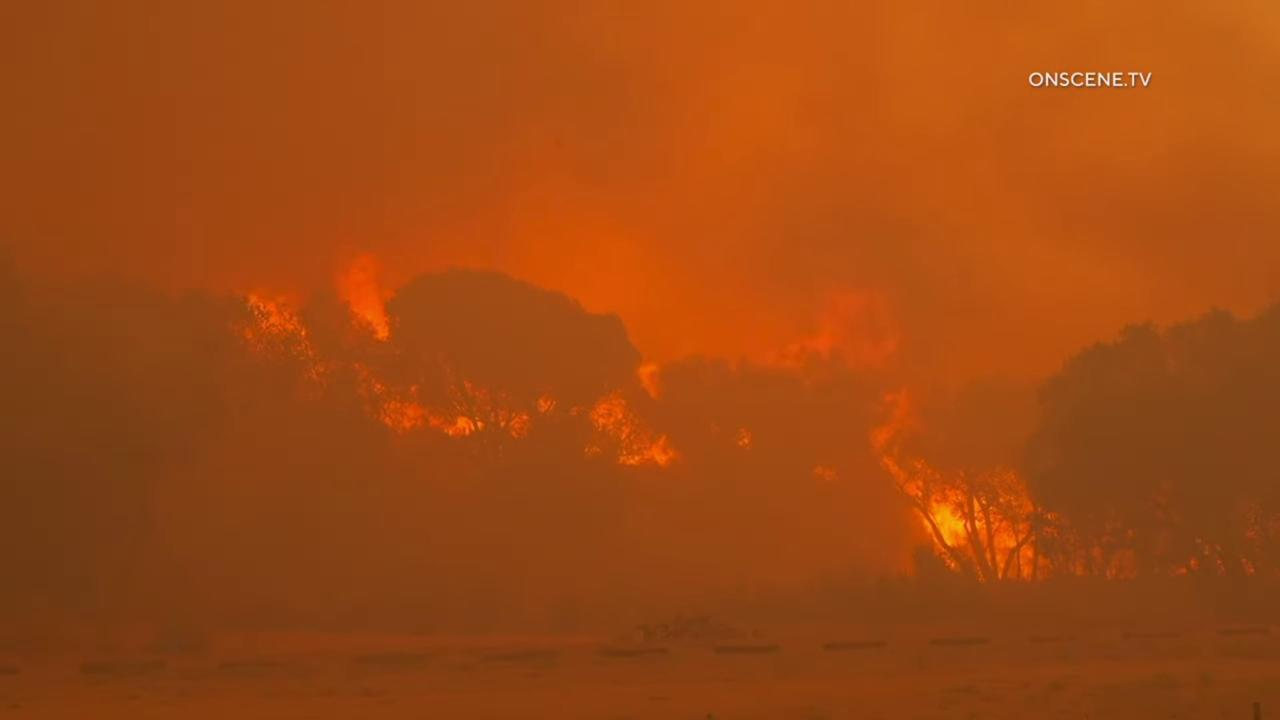fire: (242, 244, 497, 439), (864, 389, 1059, 581), (588, 360, 682, 467)
smoke: (0, 0, 1280, 720)
